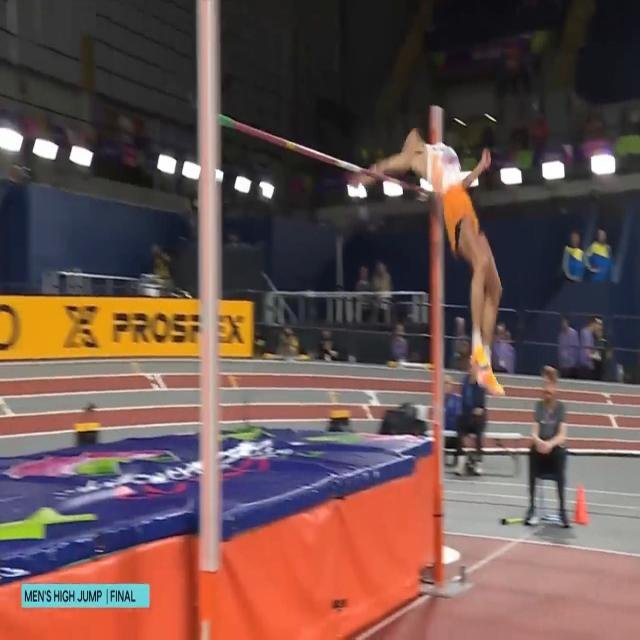jump: (346, 123, 506, 401)
